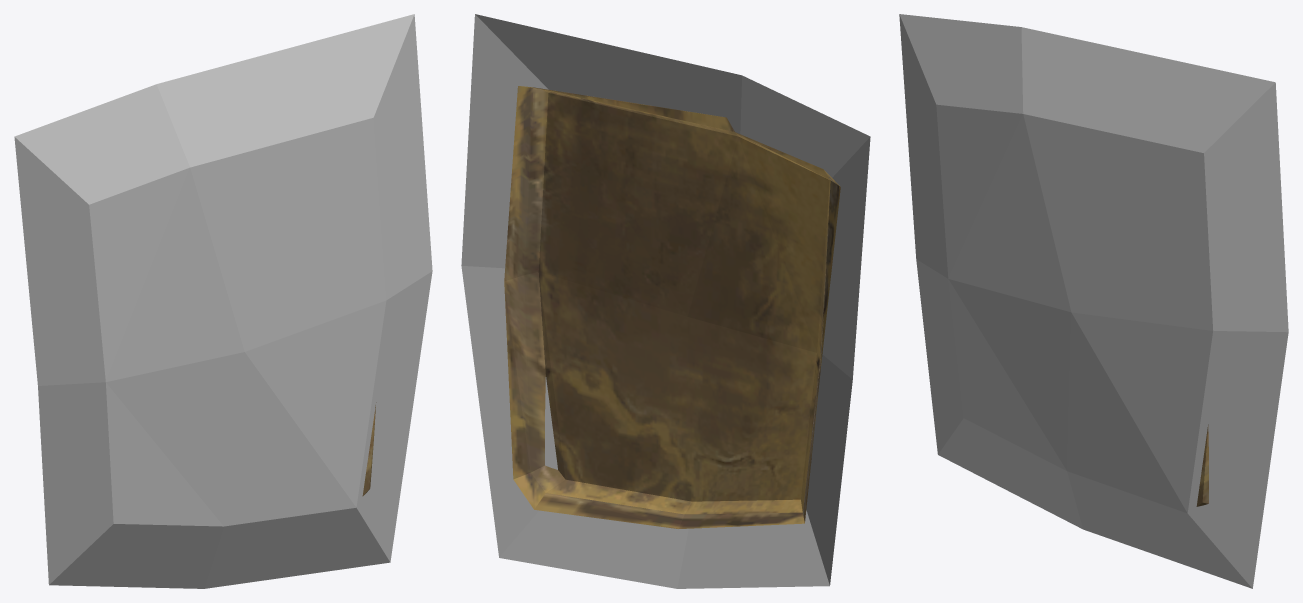
The model's file is juqing_yewai_571_dizhuan01.obj.
3 views of the same model, side by side, from view 1: azimuth 30°, elevation 25°; view 2: azimuth 150°, elevation 25°; view 3: azimuth 330°, elevation 25° (orthographic). The views are drawn at different scales.
Parts seen in each view (by area): view 1: floor; view 2: juqing_yewai_571_dizhuan01, floor; view 3: floor, juqing_yewai_571_dizhuan01.
Part boxes in pixels (<box>): floor: <box>14,14,432,588</box>; juqing_yewai_571_dizhuan01: <box>504,86,840,528</box>; floor: <box>461,14,870,588</box>; floor: <box>899,14,1288,588</box>; juqing_yewai_571_dizhuan01: <box>1196,424,1208,506</box>.
Size of the model in its own units: 156 by 195 by 17.71.
